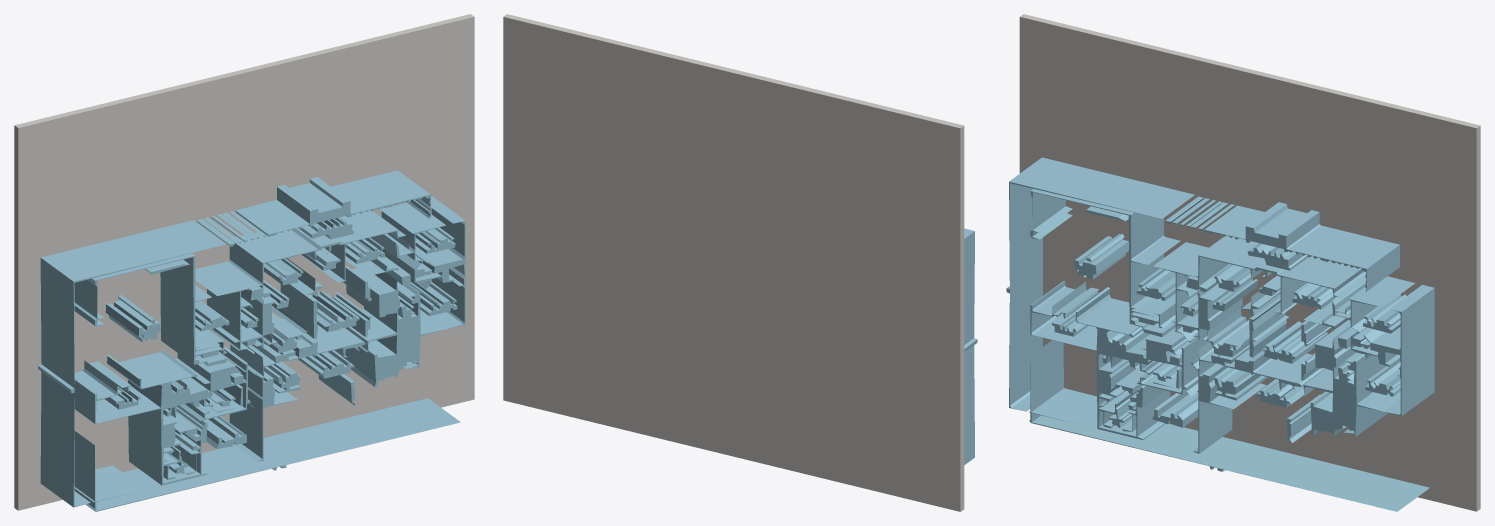
The picture shows the model from 3 angles, left to right: view 1: azimuth 30°, elevation 25°; view 2: azimuth 150°, elevation 25°; view 3: azimuth 330°, elevation 25°; orthographic projection.
Parts seen in each view (by area): view 1: world; view 2: world; view 3: world.
Boxes of the visible parts, left/top/right/bottom form: world: left=14, top=14, right=474, bottom=511; world: left=503, top=14, right=977, bottom=511; world: left=1006, top=14, right=1480, bottom=511.
Bounding box in the file's own units: 10.23 × 8.2 × 1.43.
